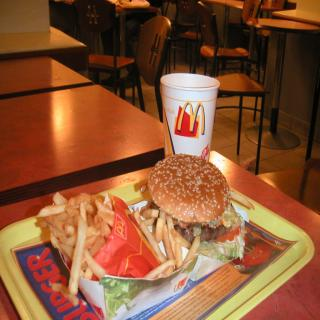Hamburger: (147, 154, 244, 264)
